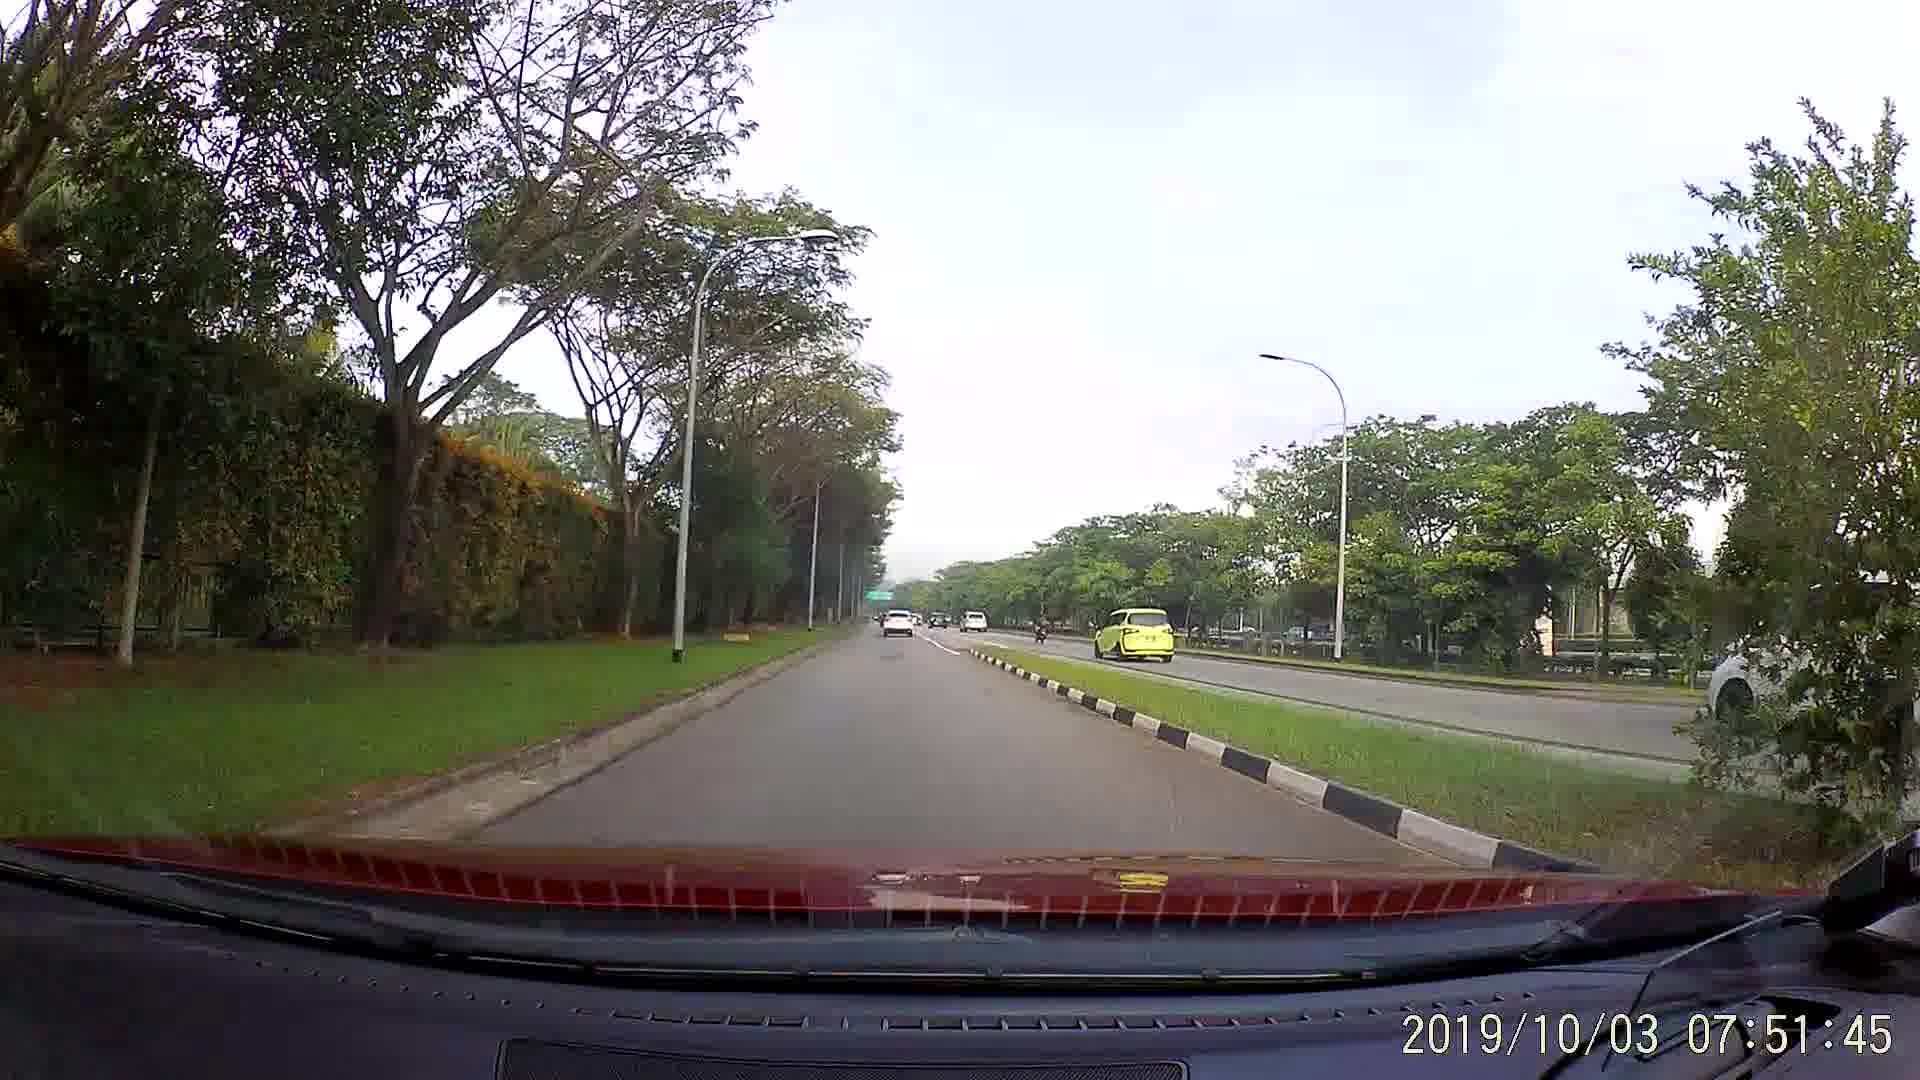car: (1091, 603, 1180, 665), (880, 608, 918, 640), (955, 603, 992, 632)
